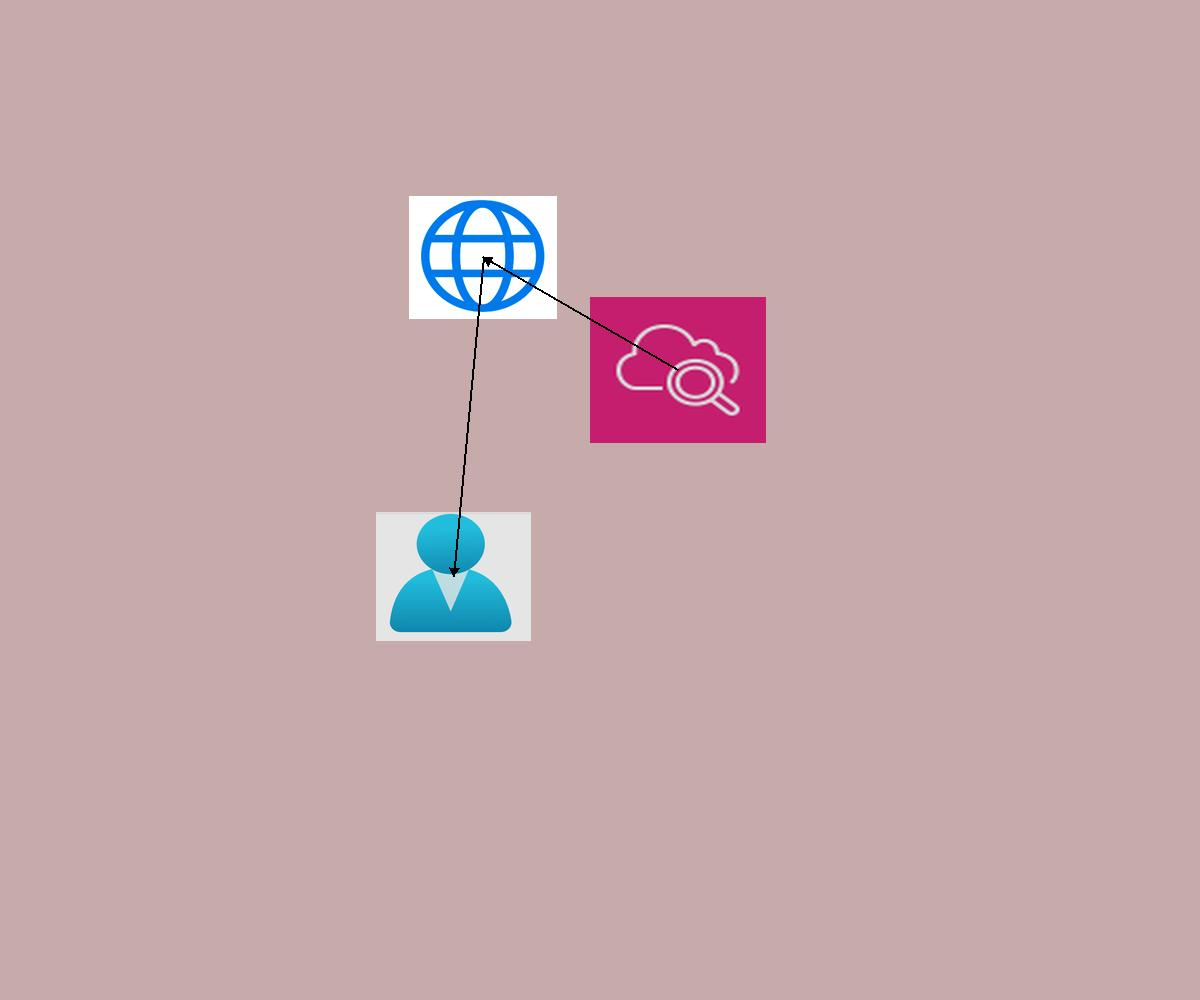AWS-CloudWatch: (590, 297, 766, 443)
Azure_http: (409, 196, 557, 319)
Azure_users: (376, 512, 531, 641)
